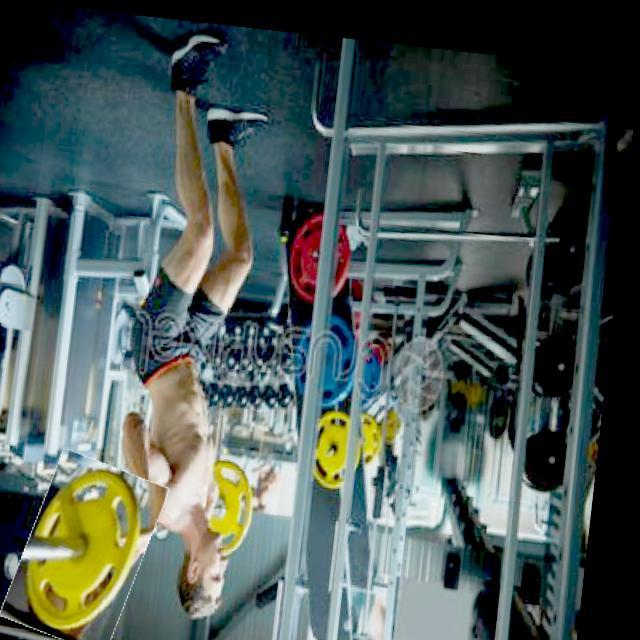barbell: (24, 449, 173, 640)
